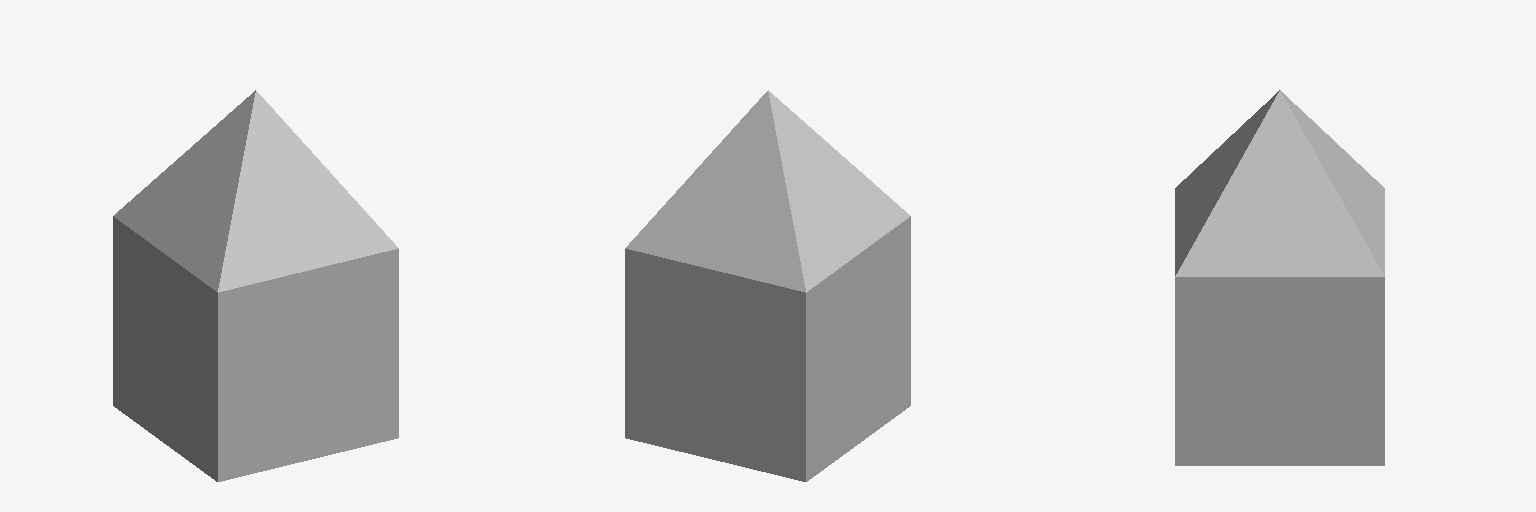
The model's file is house.obj.
3 renders of one model, left to right at view 1: azimuth 30°, elevation 25°; view 2: azimuth 150°, elevation 25°; view 3: azimuth 270°, elevation 25°, orthographic.
Size of the model in its own units: 2 by 3.5 by 2.